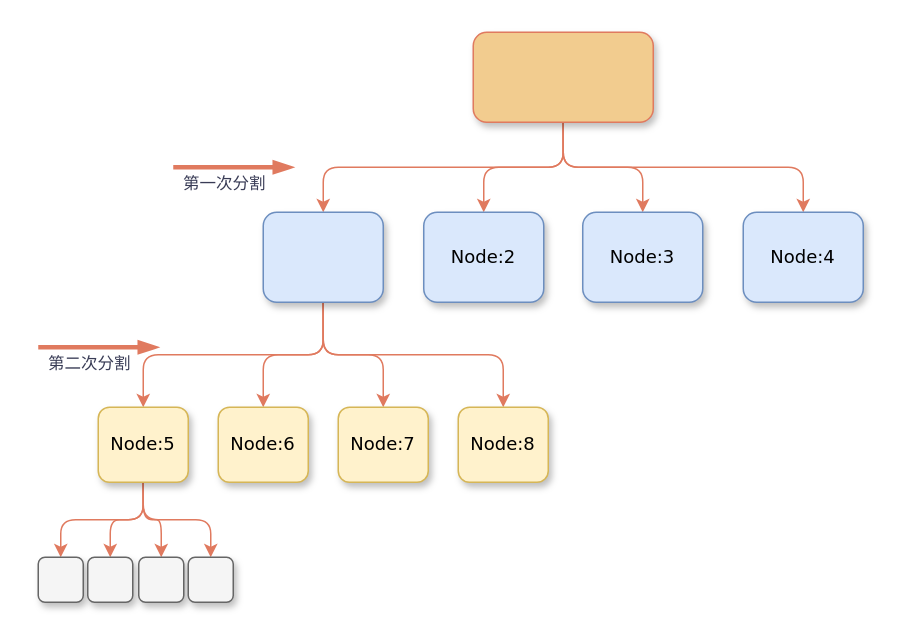
Image size: 899x639. Some labels were removed from this diagram. The shapes that lost their labels are listed below. From the top down, each one's centre as x and y in pixels, then its label:
At [564,79]: "根节点 Node:0".
At [324,259]: "Node:1".
